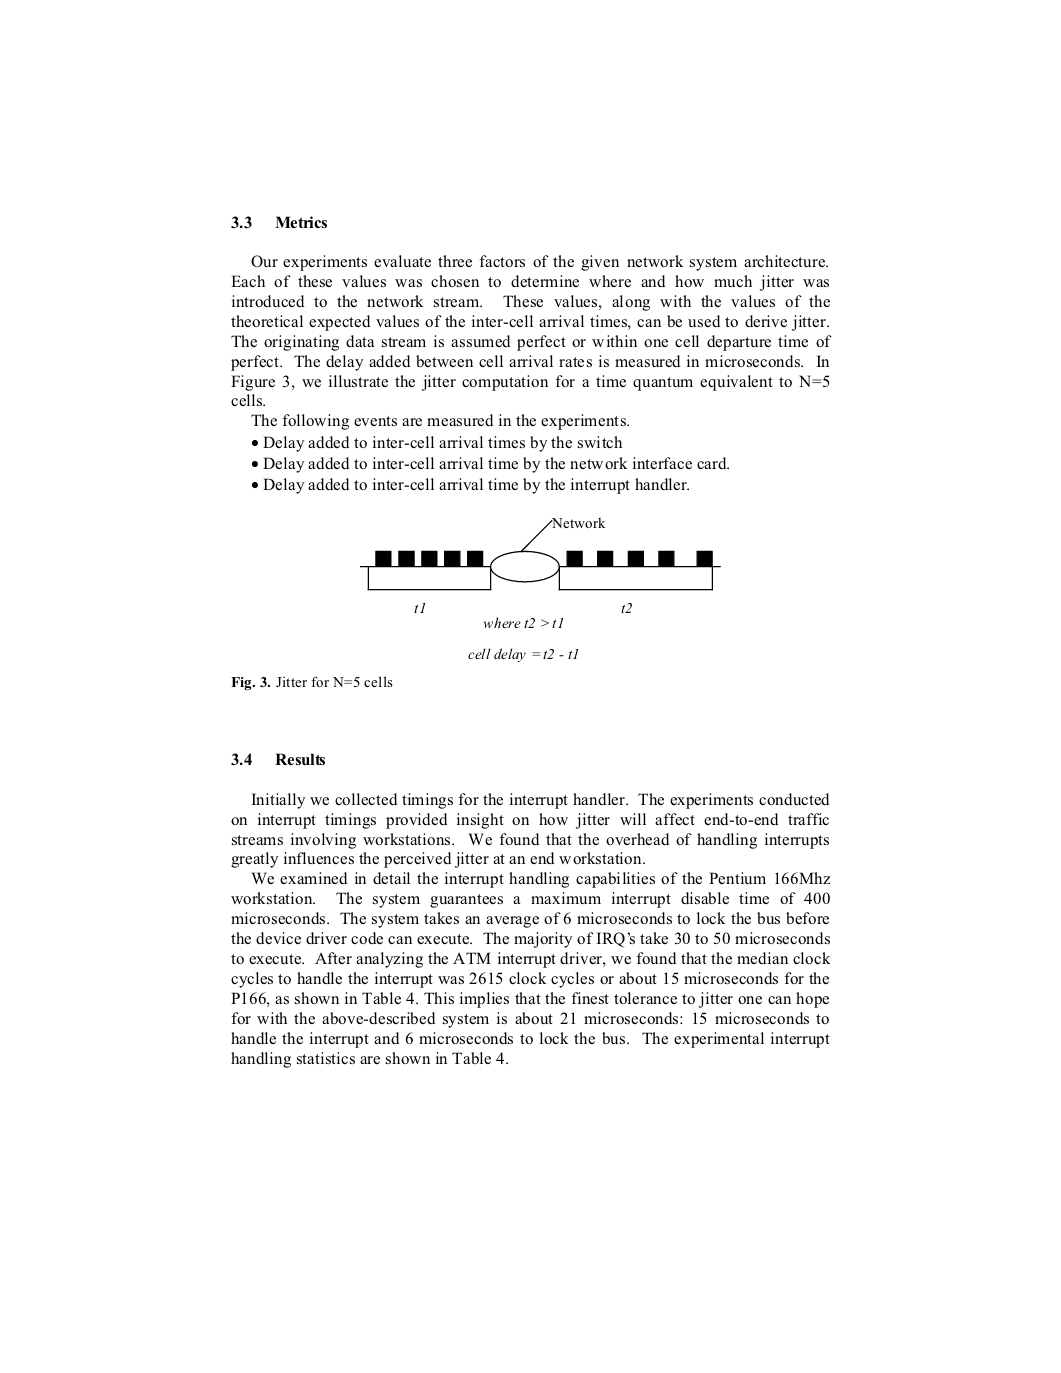figure: (360, 516, 720, 591)
formula: (468, 647, 578, 663)
